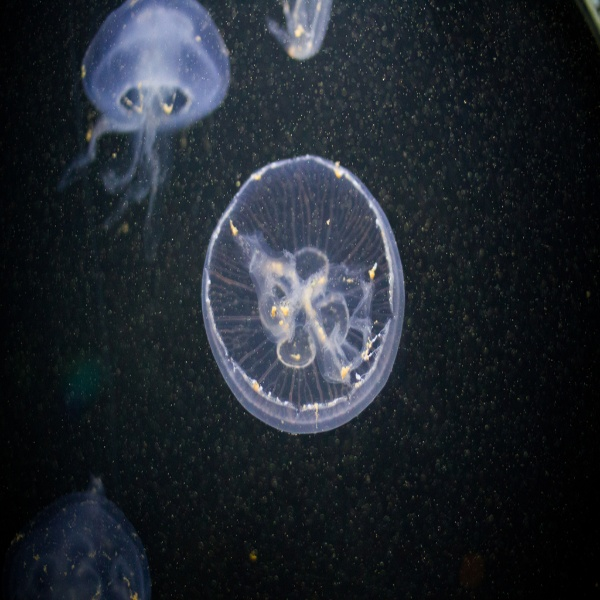Jellyfish: (193, 155, 408, 432), (54, 0, 228, 216)
